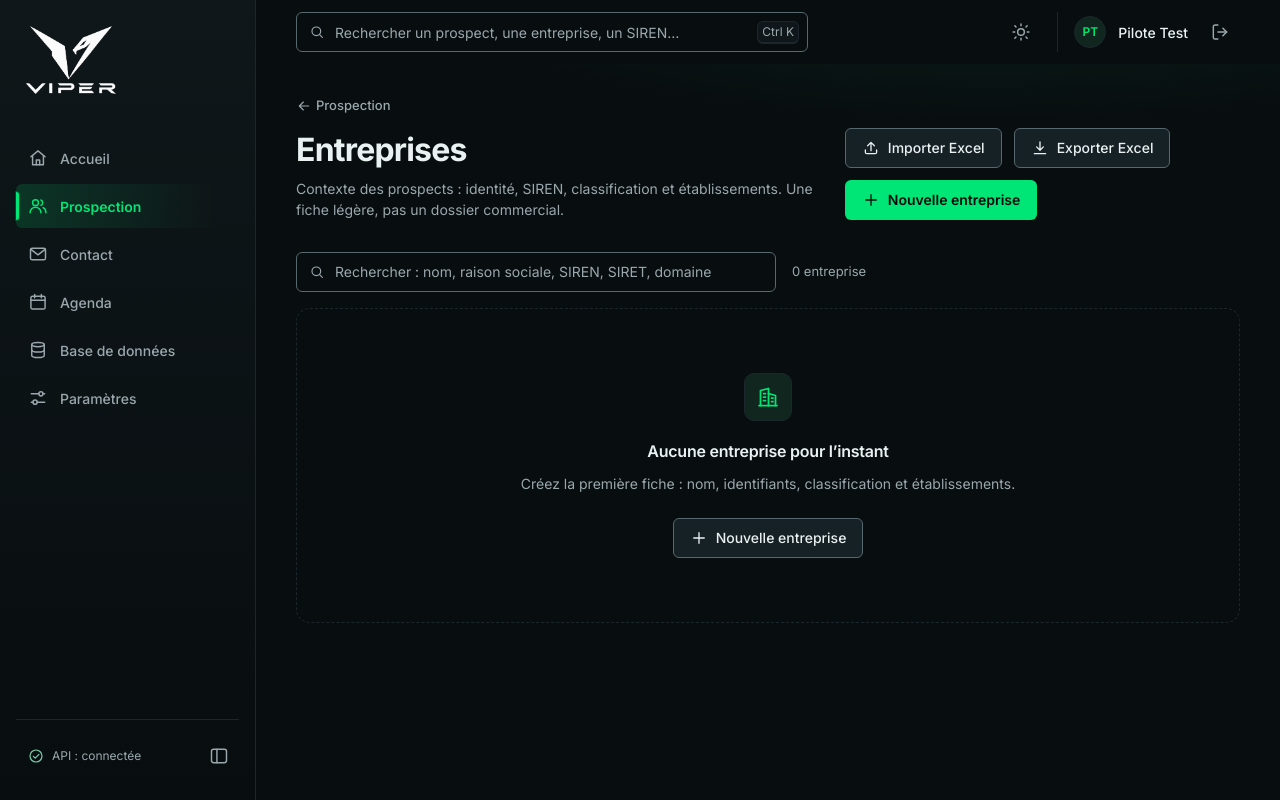
Company editor › refuses to save a new company without a name and points at the field
Click the button "Nouvelle entreprise" below "Importer Excel": (941, 200) [845,180,1037,220]
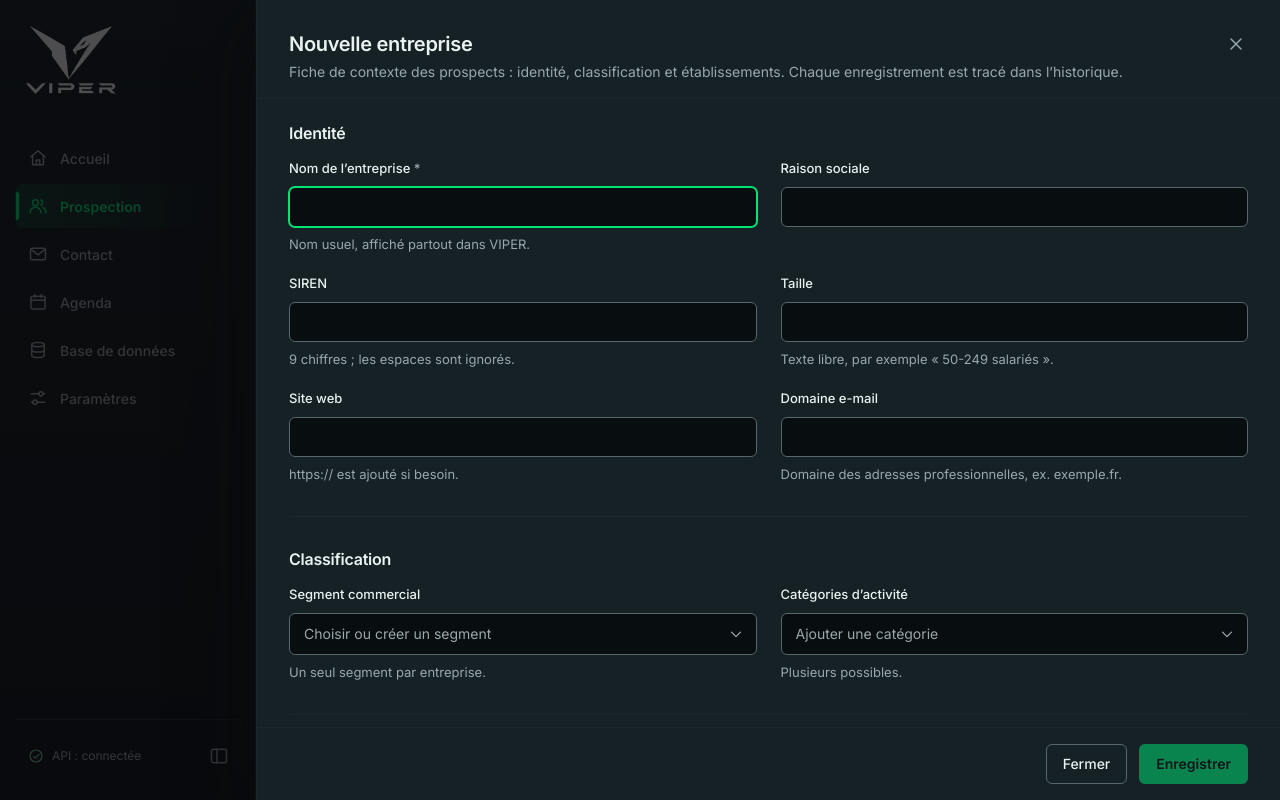
Clear the field labelled "Raison sociale": (1014, 206) [780,186,1248,226]
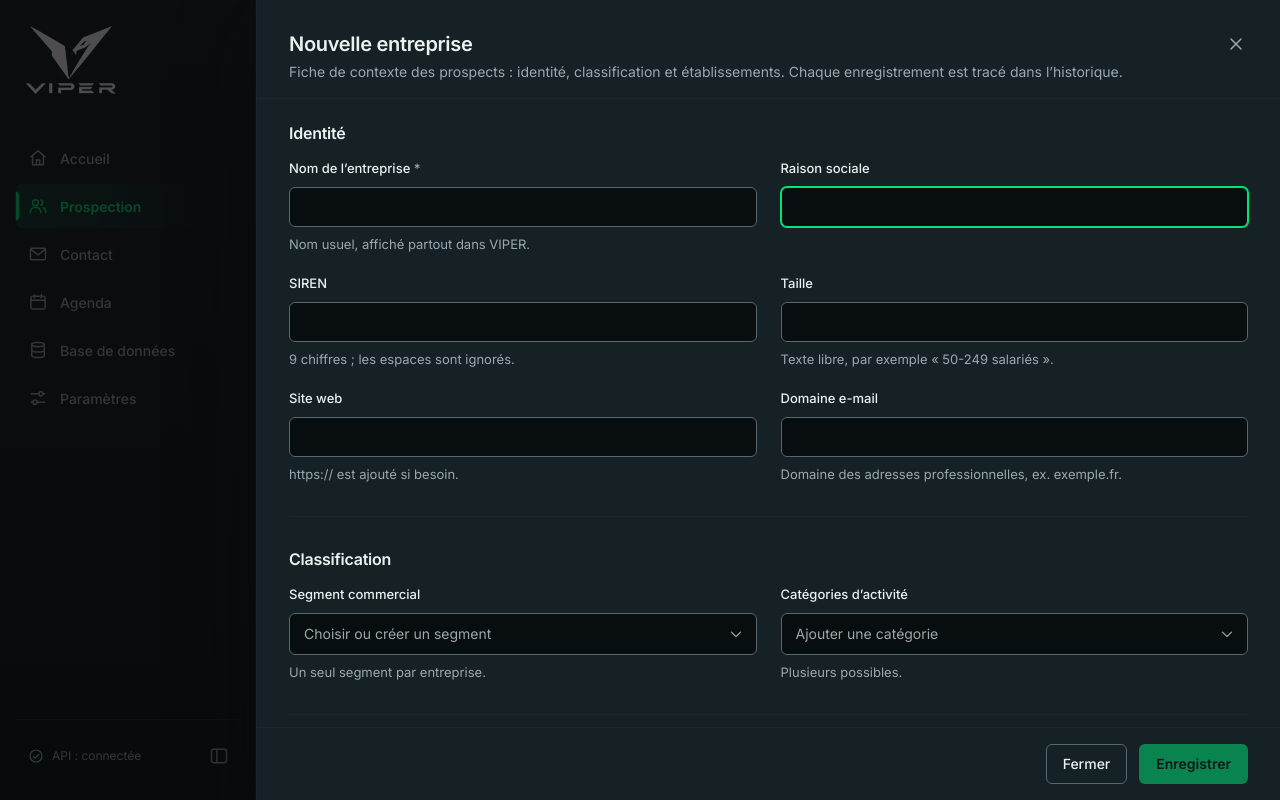
Type keys "Transports Exemple SAS"
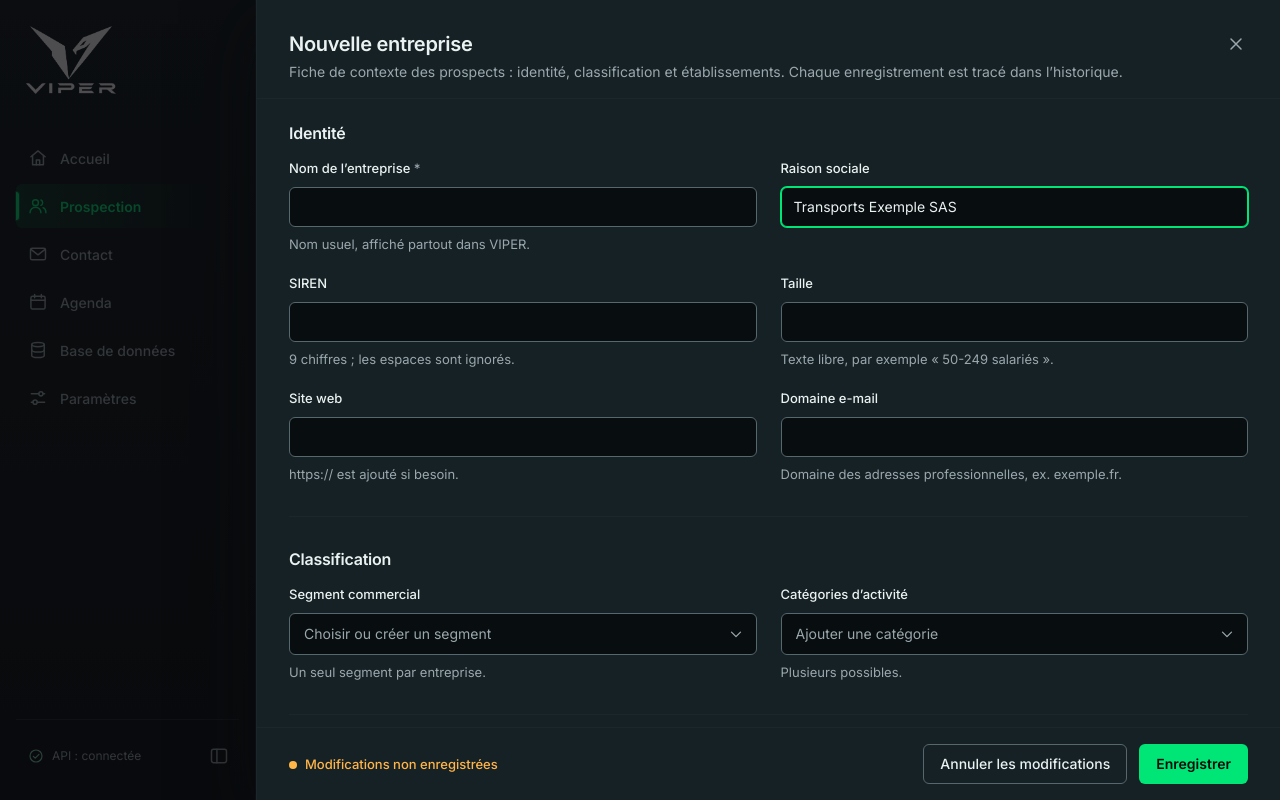
Click the button "Enregistrer": (1194, 764) [1139,744,1248,784]
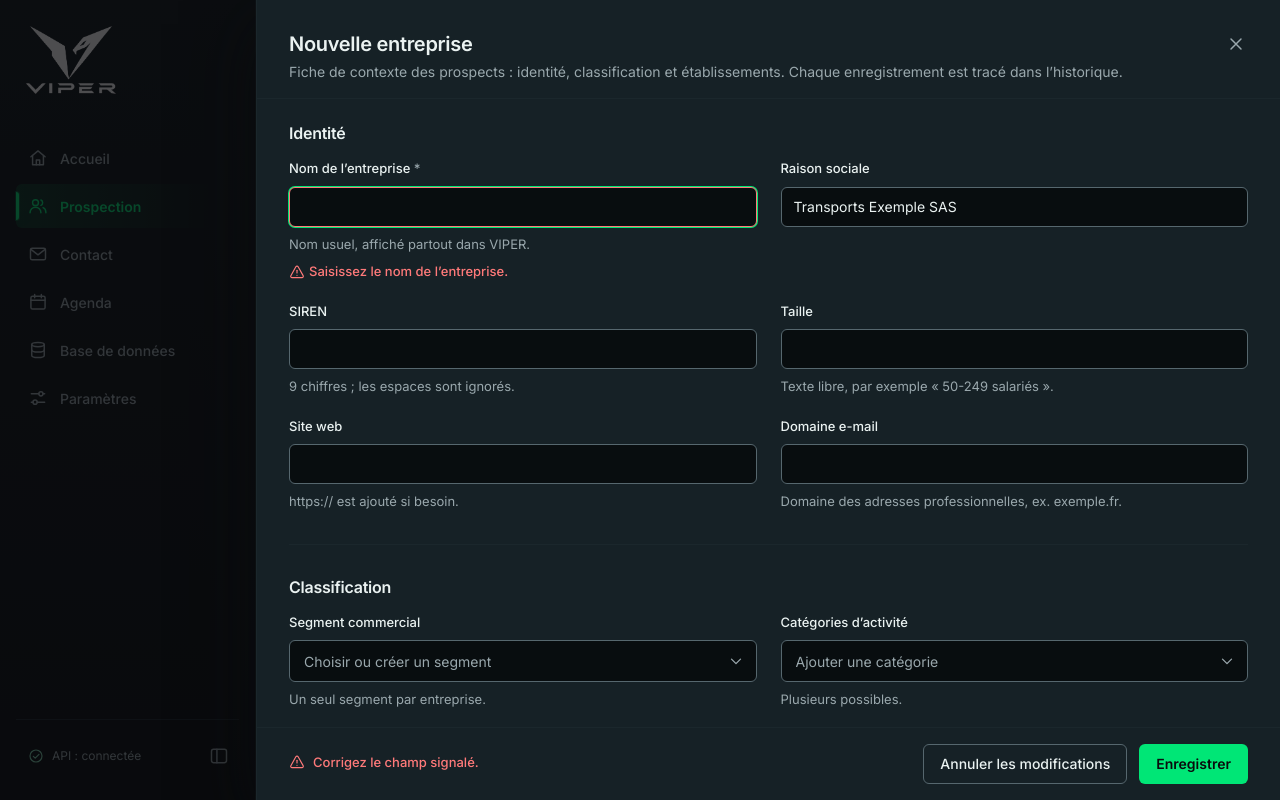
Expected: the message reads "Corrigez le champ signalé.", [313,754,479,770]
